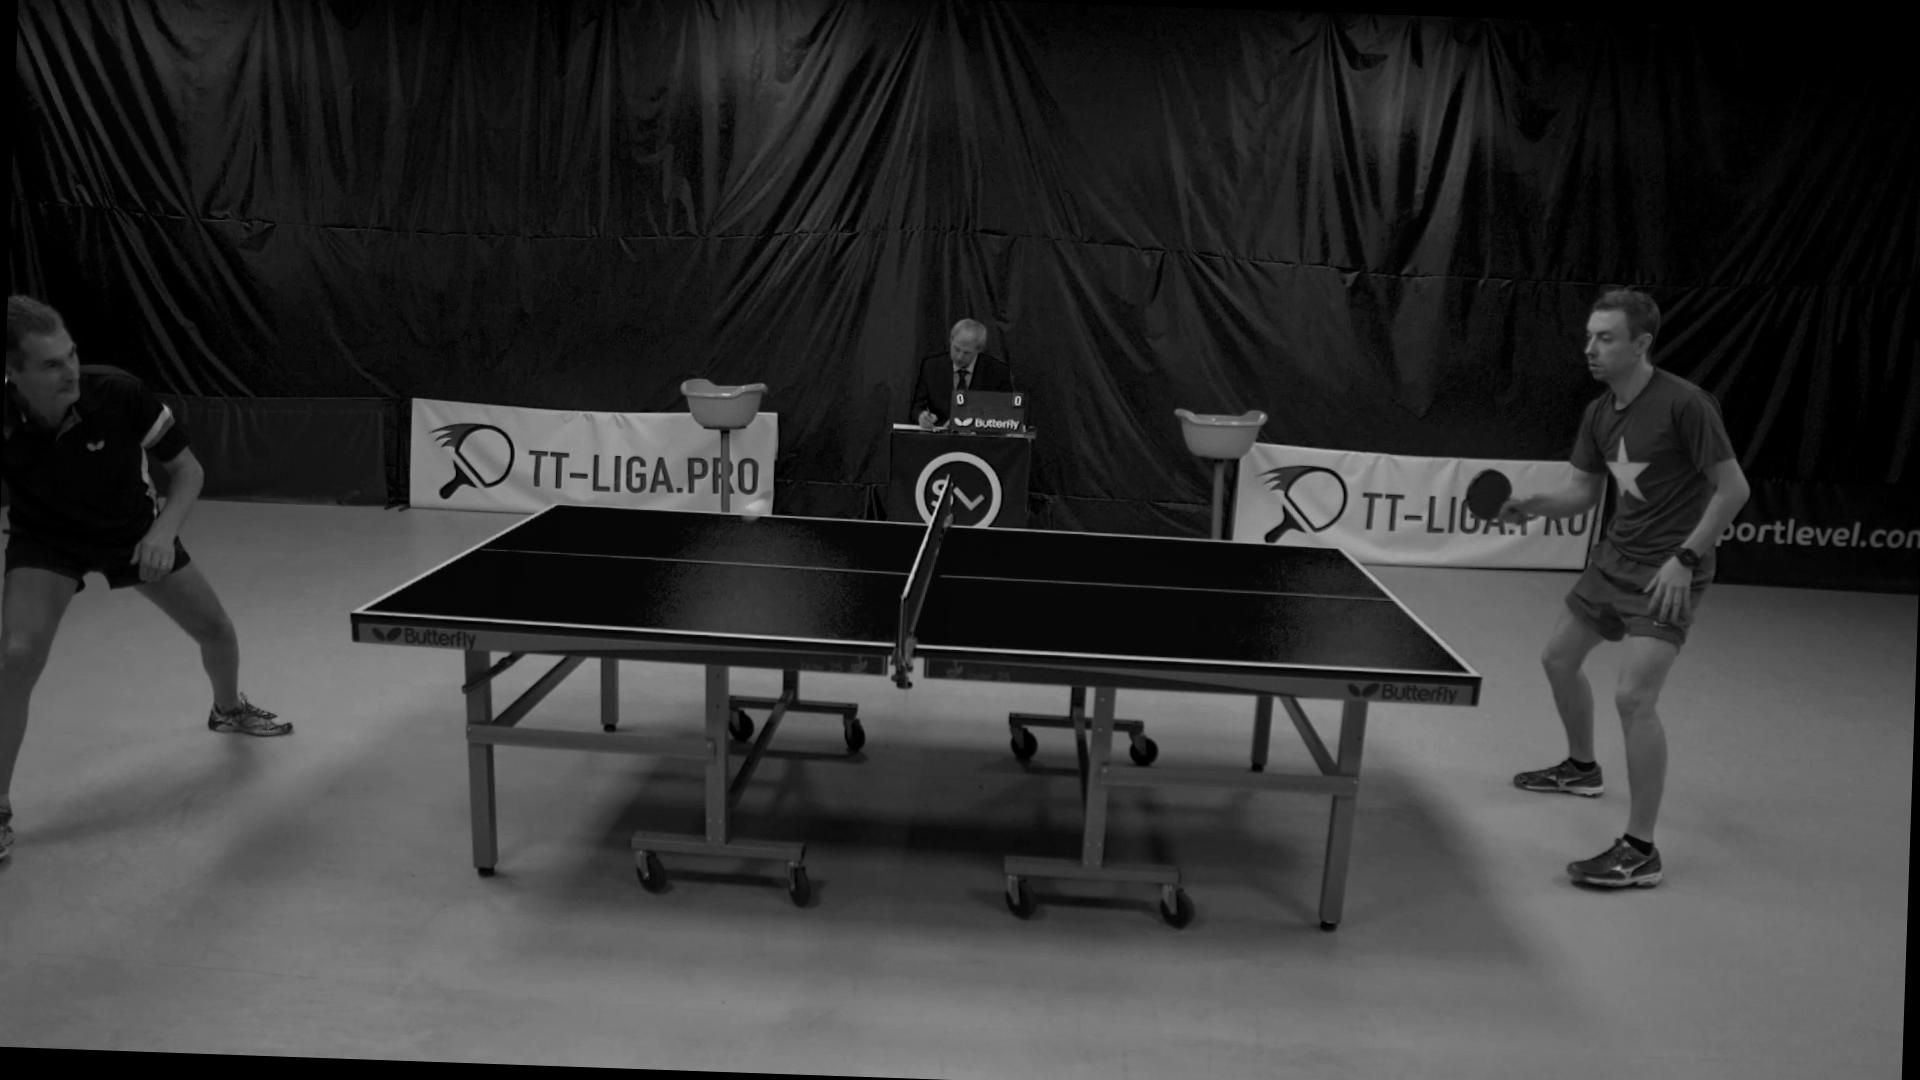ball: (741, 497, 771, 521)
